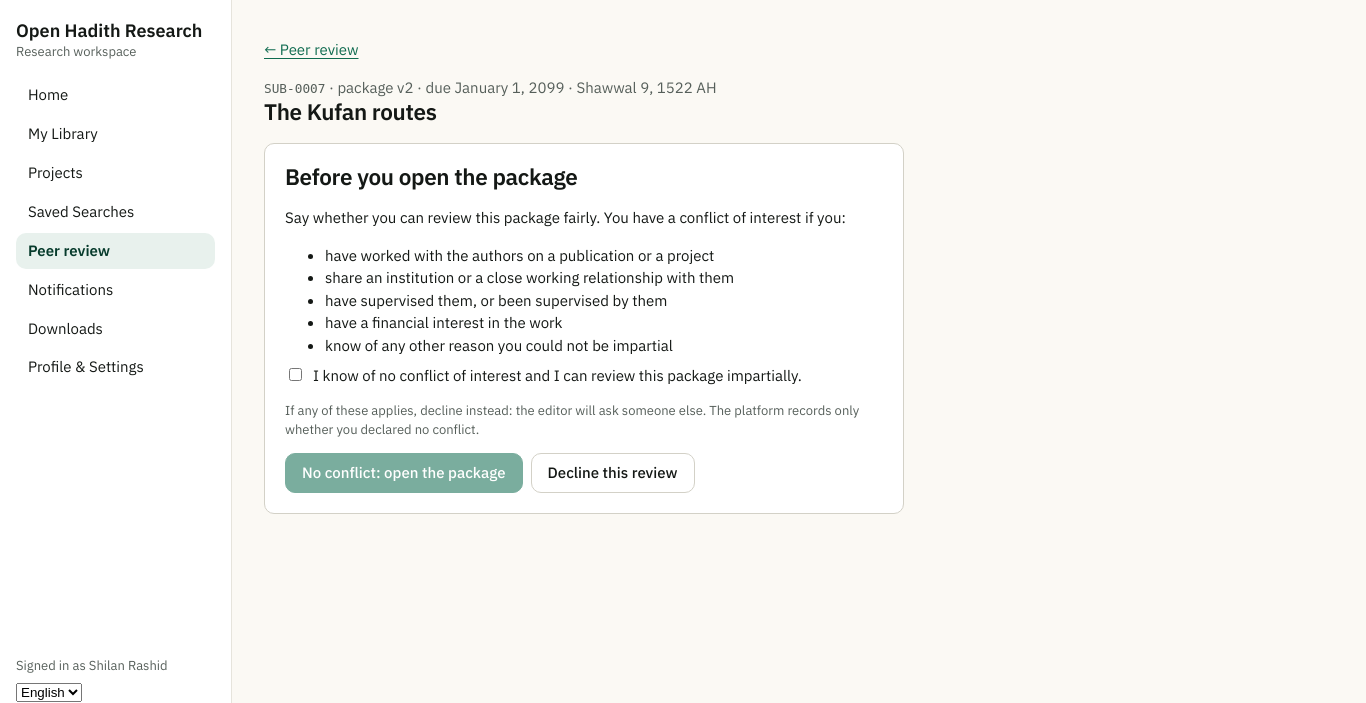
Test: Peer review: the package › records the declaration and the acceptance, then shows the package
Click the checkbox labelled "no conflict of interest" at (296, 375), box [289,368,302,381]
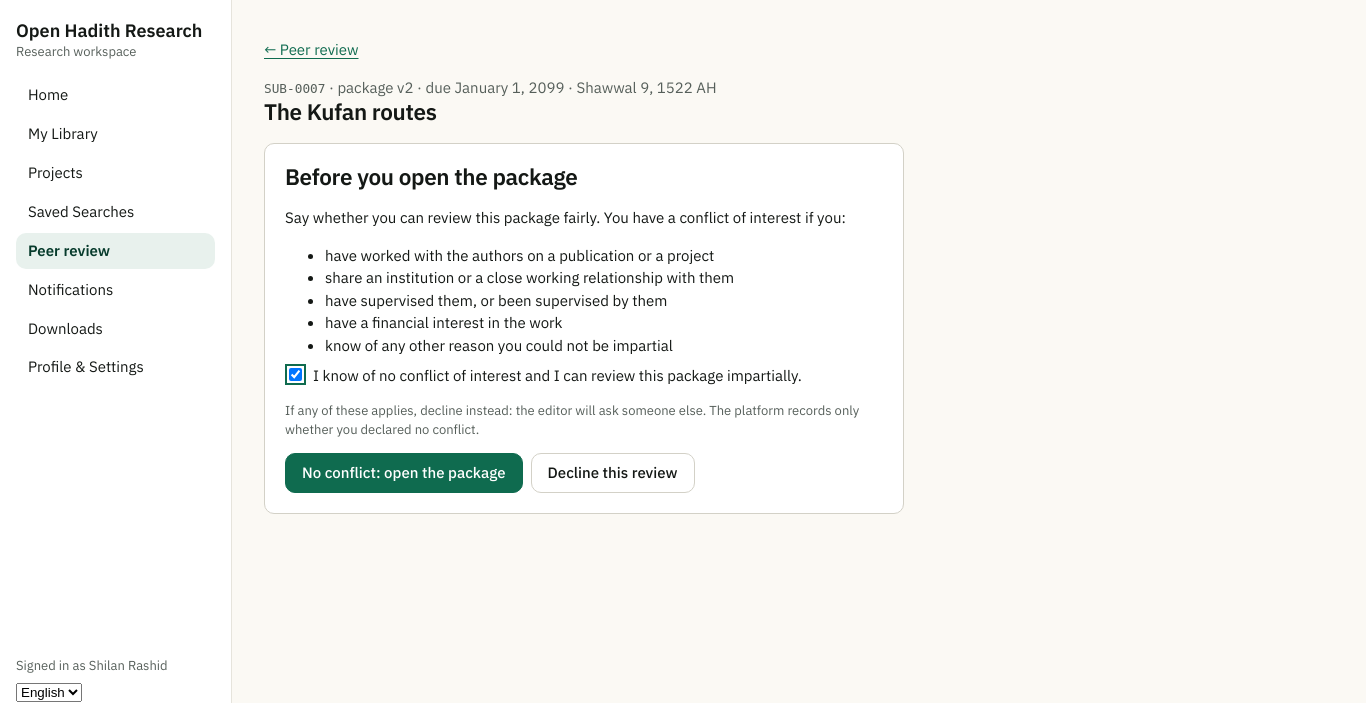
Click the button "No conflict: open the package" at (404, 473), box [285,453,522,493]
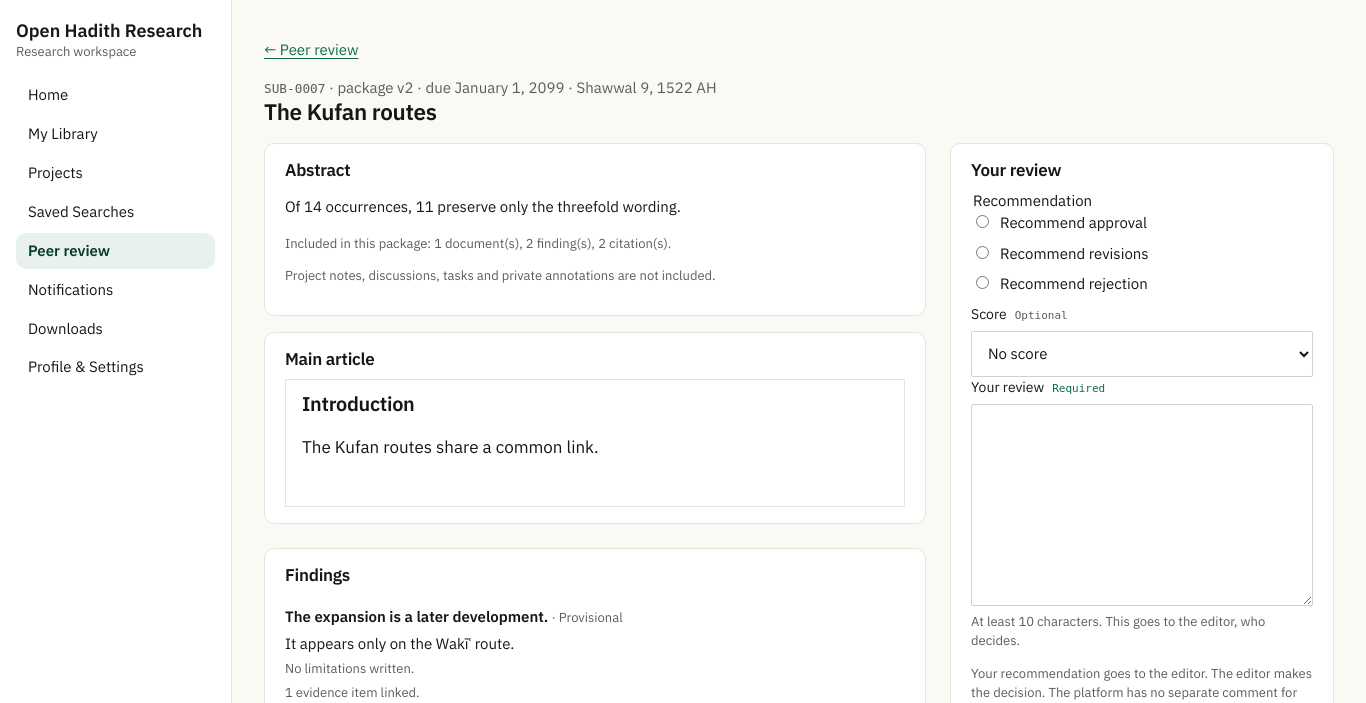
expect the element "Abstract" shows "Of 14 occurrences, 11 preserve only the threefold wording.": met, box [285,196,681,218]
expect the heading "Main article" is shown: met, box [285,347,374,372]
expect the text "The Kufan routes share a common link." is shown: met, box [302,436,599,460]
